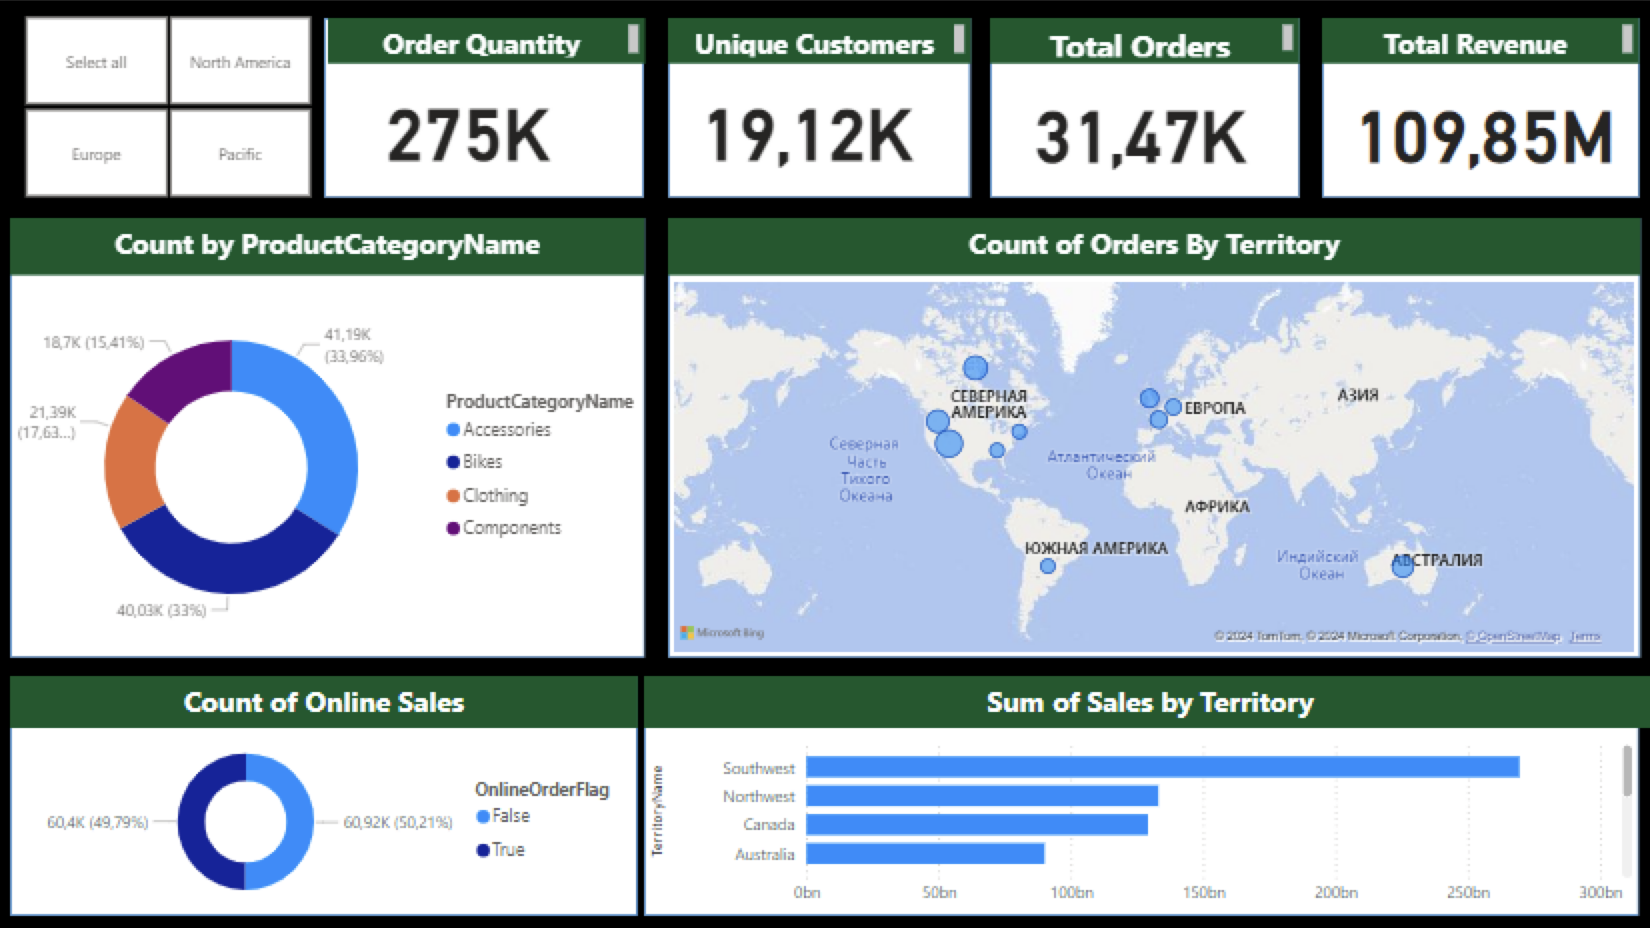

This screenshot's page, from the dashboard's own definition file:
{"tool":"powerbi","page":{"name":"Page 1","canvas":[1280,720],"ordinal":0},"visuals":[{"type":"shape","box":[255.8,13.5,246.2,138.5],"z":1000},{"type":"shape","box":[767.3,13.5,238.5,138.5],"z":2000},{"type":"shape","box":[519.2,13.5,232.7,138.5],"z":3000},{"type":"shape","box":[1023.1,13.5,244.2,138.5],"z":4000},{"type":"shape","box":[13.5,167.3,488.5,338.5],"z":5000},{"type":"shape","box":[13.5,519.2,482.7,184.6],"z":6000},{"type":"shape","box":[519.2,167.3,748.1,338.5],"z":7000},{"type":"map","fields":{"Size":["CountNonNull(Query1.SalesOrderID)"],"Category":["Query1.TerritoryName"]},"box":[519.2,211.5,748.1,294.2],"z":8000},{"type":"textbox","box":[519.2,167.3,748.1,44.2],"z":9000},{"type":"donutChart","fields":{"Category":["Query1.ProductCategoryName"],"Y":["CountNonNull(Query1.ProductCategoryID)"]},"box":[13.5,211.5,488.5,294.2],"z":10000},{"type":"textbox","box":[13.5,167.3,488.5,44.2],"z":11000},{"type":"donutChart","fields":{"Category":["Query1.OnlineOrderFlag"],"Y":["CountNonNull(Query1.CustomerID)"]},"box":[13.5,559.6,482.7,144.2],"z":12000},{"type":"textbox","box":[13.5,519.2,482.7,40.4],"z":13000},{"type":"card","fields":{"Values":["Sum(Query1.LineTotal)"]},"box":[1026.9,42.3,240.4,109.6],"z":15000},{"type":"shape","box":[501.9,519.2,765.4,184.6],"z":16000},{"type":"textbox","box":[501.9,519.2,778.8,40.4],"z":17000},{"type":"barChart","fields":{"Category":["Query1.TerritoryName"],"Y":["Sum(Query1.TerritorySalesYTD)"]},"box":[501.9,559.6,765.4,144.2],"z":18000},{"type":"card","fields":{"Values":["Sum(Query1.OrderQty)"]},"box":[228.8,9.6,273.1,175],"z":19000},{"type":"textbox","box":[257.7,13.5,244.2,34.6],"z":20000},{"type":"card","fields":{"Values":["Count(Query1.CustomerID)"]},"box":[501.9,28.8,250,136.5],"z":21000},{"type":"textbox","box":[519.2,13.5,232.7,34.6],"z":22000},{"type":"card","fields":{"Values":["Count(Query1.SalesOrderID)"]},"box":[732.7,42.3,301.9,109.6],"z":23000},{"type":"textbox","box":[767.3,13.5,238.5,34.6],"z":24000},{"type":"textbox","box":[1023.1,13.5,244.2,34.6],"z":24503},{"type":"slicer","fields":{"Values":["Query1.TerritoryGroup"]},"box":[0,6.2,269.2,152.3],"z":24504}]}

Visuals, with their boxes in screenshot pixels (x1, y1, x2, y2), scaled from the page's 1280x720 canvas onto the 1650x928 screenshot:
shape: {"left": 330, "top": 17, "right": 647, "bottom": 196}
shape: {"left": 989, "top": 17, "right": 1297, "bottom": 196}
shape: {"left": 669, "top": 17, "right": 969, "bottom": 196}
shape: {"left": 1319, "top": 17, "right": 1634, "bottom": 196}
shape: {"left": 17, "top": 216, "right": 647, "bottom": 652}
shape: {"left": 17, "top": 669, "right": 640, "bottom": 907}
shape: {"left": 669, "top": 216, "right": 1634, "bottom": 652}
map - CountNonNull(Query1.SalesOrderID) x Query1.TerritoryName: {"left": 669, "top": 273, "right": 1634, "bottom": 652}
textbox: {"left": 669, "top": 216, "right": 1634, "bottom": 273}
donutChart - Query1.ProductCategoryName x CountNonNull(Query1.ProductCategoryID): {"left": 17, "top": 273, "right": 647, "bottom": 652}
textbox: {"left": 17, "top": 216, "right": 647, "bottom": 273}
donutChart - Query1.OnlineOrderFlag x CountNonNull(Query1.CustomerID): {"left": 17, "top": 721, "right": 640, "bottom": 907}
textbox: {"left": 17, "top": 669, "right": 640, "bottom": 721}
card - Sum(Query1.LineTotal): {"left": 1324, "top": 55, "right": 1634, "bottom": 196}
shape: {"left": 647, "top": 669, "right": 1634, "bottom": 907}
textbox: {"left": 647, "top": 669, "right": 1649, "bottom": 721}
barChart - Query1.TerritoryName x Sum(Query1.TerritorySalesYTD): {"left": 647, "top": 721, "right": 1634, "bottom": 907}
card - Sum(Query1.OrderQty): {"left": 295, "top": 12, "right": 647, "bottom": 238}
textbox: {"left": 332, "top": 17, "right": 647, "bottom": 62}
card - Count(Query1.CustomerID): {"left": 647, "top": 37, "right": 969, "bottom": 213}
textbox: {"left": 669, "top": 17, "right": 969, "bottom": 62}
card - Count(Query1.SalesOrderID): {"left": 944, "top": 55, "right": 1334, "bottom": 196}
textbox: {"left": 989, "top": 17, "right": 1297, "bottom": 62}
textbox: {"left": 1319, "top": 17, "right": 1634, "bottom": 62}
slicer - Query1.TerritoryGroup: {"left": 0, "top": 8, "right": 347, "bottom": 204}
